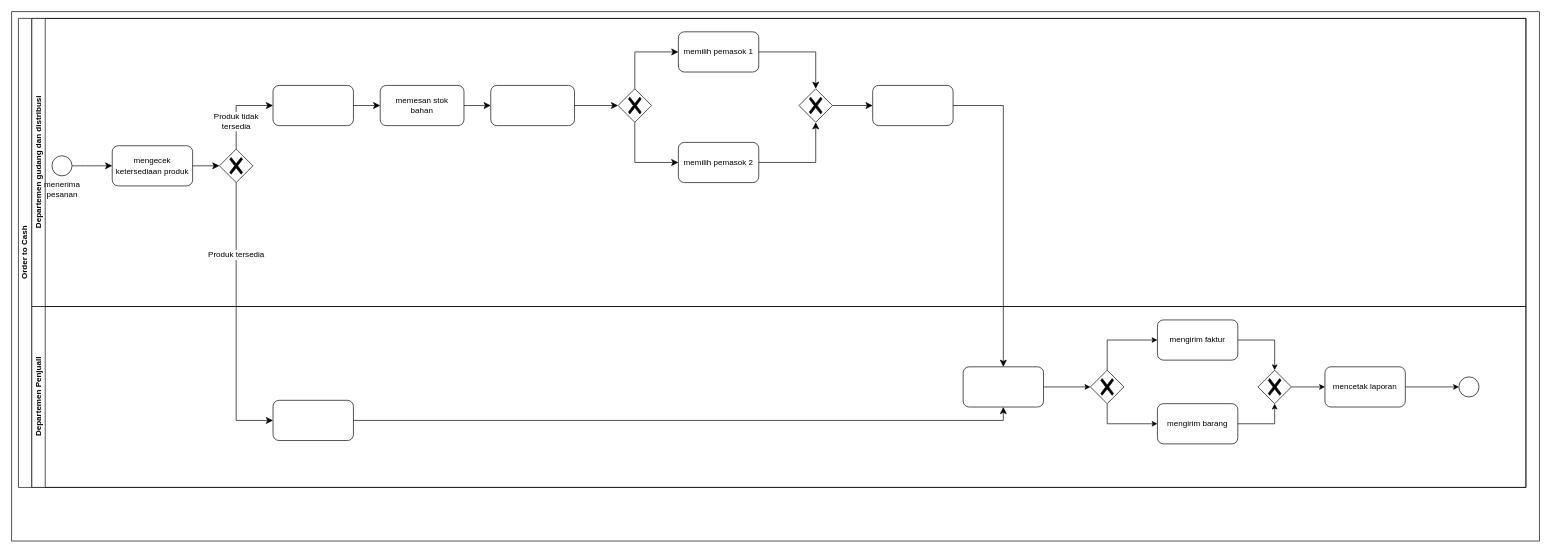
This 1551x553 diagram has some shape labels left out. The shapes that lost their labels are listed below. From the top down, each one's centre as x and y in pixels, then its label:
(x=312, y=105): memeriksa stok bahan
(x=532, y=105): memilih pemasok
(x=912, y=105): melanjutkan produksi
(x=1003, y=386): memproses pemesanan
(x=312, y=420): mengambil barang di gudang
